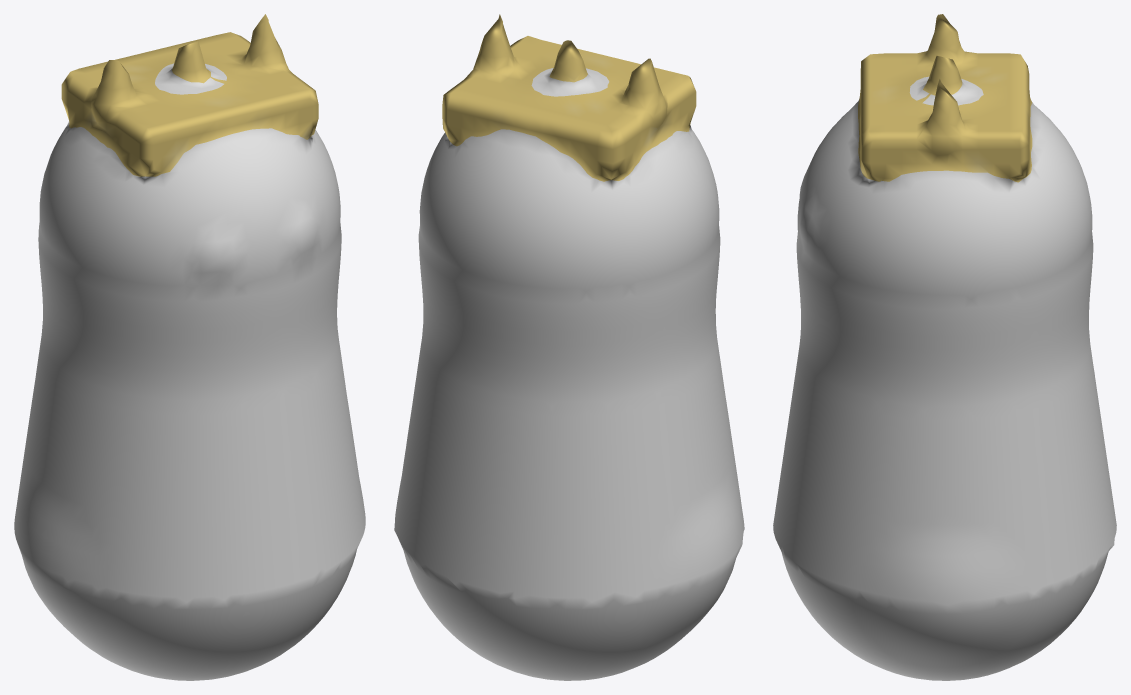
The model's file is ghost.glb.
3 views of the same model, side by side, from view 1: azimuth 30°, elevation 25°; view 2: azimuth 150°, elevation 25°; view 3: azimuth 270°, elevation 25° (orthographic). The views are drawn at different scales.
Visible parts, largest first — view 1: ghost; view 2: ghost; view 3: ghost.
Part boxes in pixels (box(x1,y1,x2,y2)): ghost: box(14, 14, 365, 680); ghost: box(394, 14, 744, 680); ghost: box(773, 14, 1116, 680).
Size of the model in its own units: 42.16 by 81.47 by 40.83.
